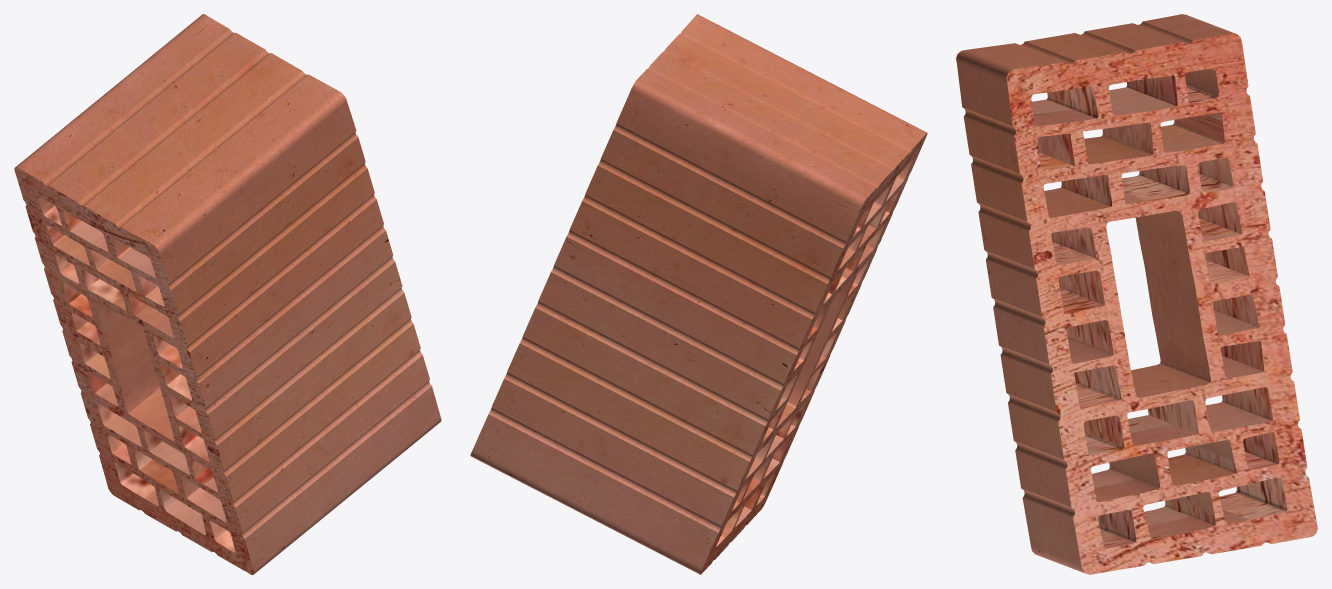
File: brick.dae
3 renders of one model, left to right at view 1: azimuth 30°, elevation 25°; view 2: azimuth 150°, elevation 25°; view 3: azimuth 270°, elevation 25°, orthographic. The views are drawn at different scales.
Parts seen in each view (by area): view 1: brick1; view 2: brick1; view 3: brick1.
Boxes of the visible parts, bbox=[...] form: brick1: bbox=[14, 14, 441, 574]; brick1: bbox=[470, 14, 927, 574]; brick1: bbox=[956, 14, 1317, 574].
Size of the model in its own units: 1.88 by 1.38 by 2.3.
Materials: 1 (1 with a texture image).
